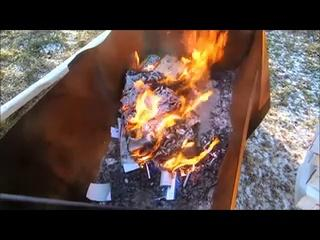Fire: (126, 29, 233, 161)
